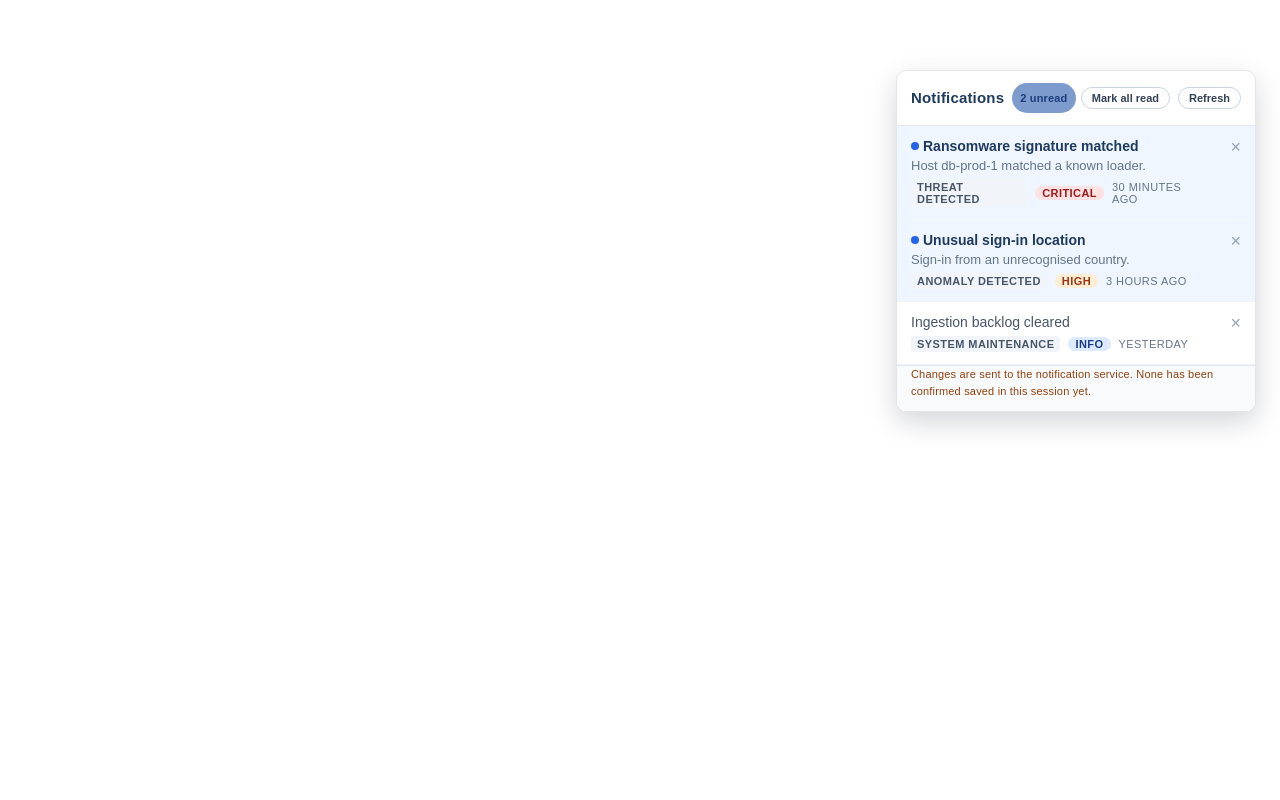
Test: persistence wording › does not remove the disclaimer when the live action fails
Click the button with class "notif-item-main" that starts with "Ransomware signature matched" at (1057, 173), box [897, 126, 1216, 219]
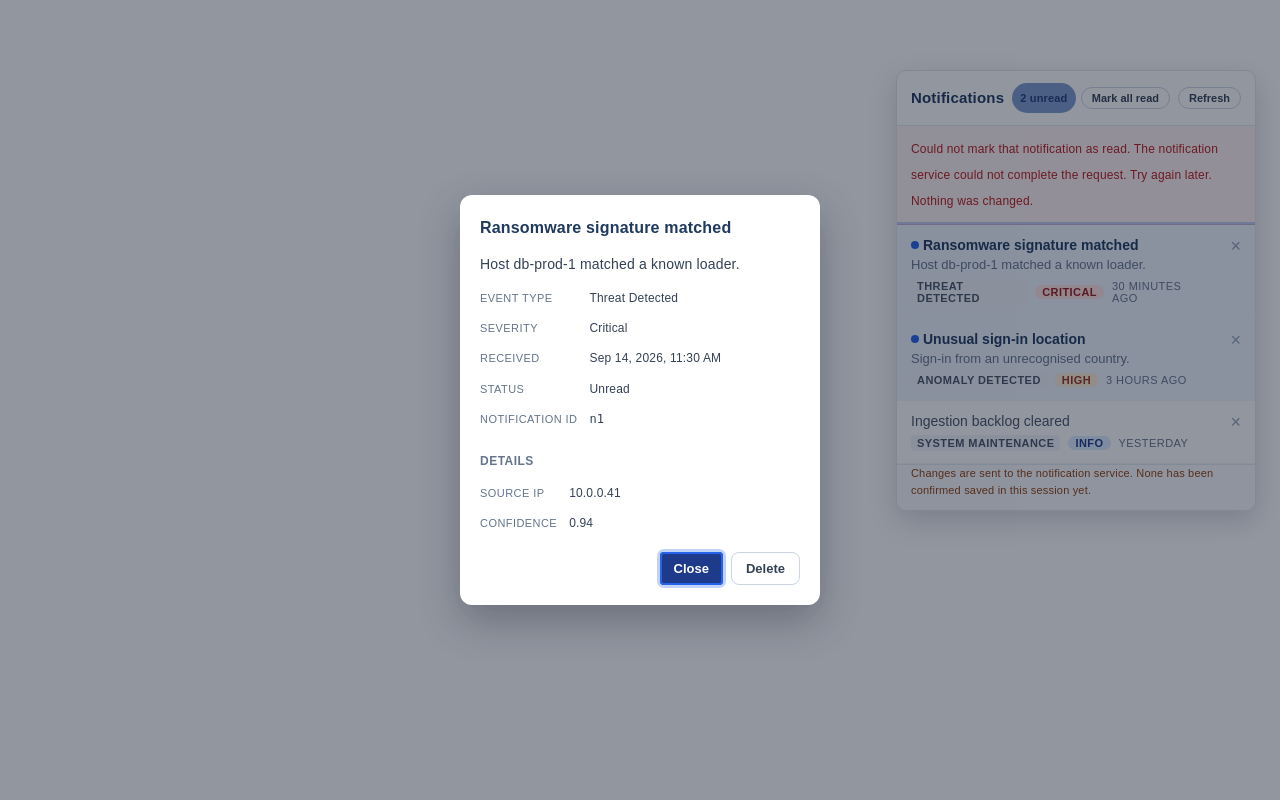
Expected: the text "None has been confirmed saved in this session yet" is shown, [911, 467, 1213, 496]
Expected: the message is shown, [897, 126, 1255, 225]
